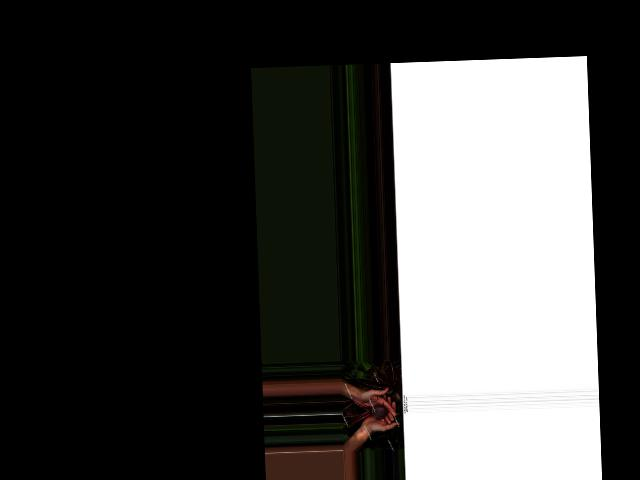beet: (343, 400, 389, 429)
